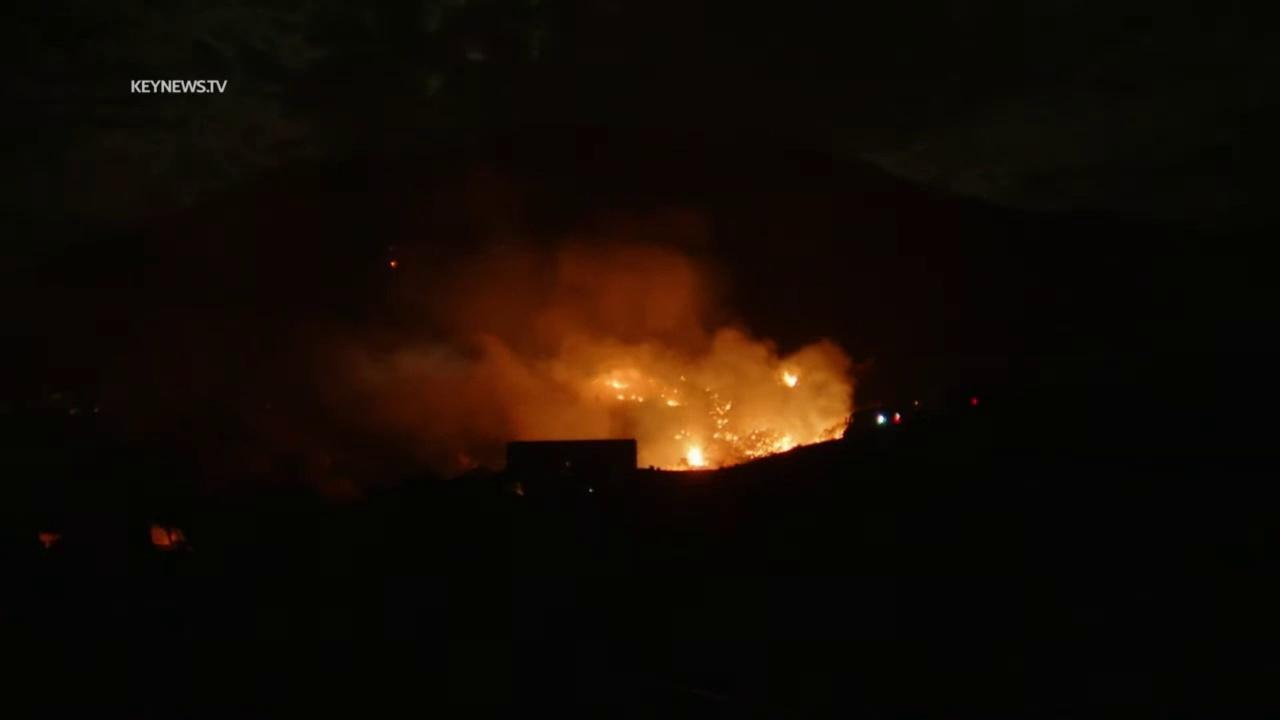fire: (703, 388, 741, 442), (743, 435, 799, 457), (686, 443, 708, 471), (814, 425, 845, 443), (783, 372, 799, 390), (607, 377, 629, 390), (666, 399, 683, 409), (630, 394, 644, 403), (614, 394, 625, 403), (674, 434, 682, 442), (680, 375, 687, 383)
smoke: (314, 231, 859, 473)
